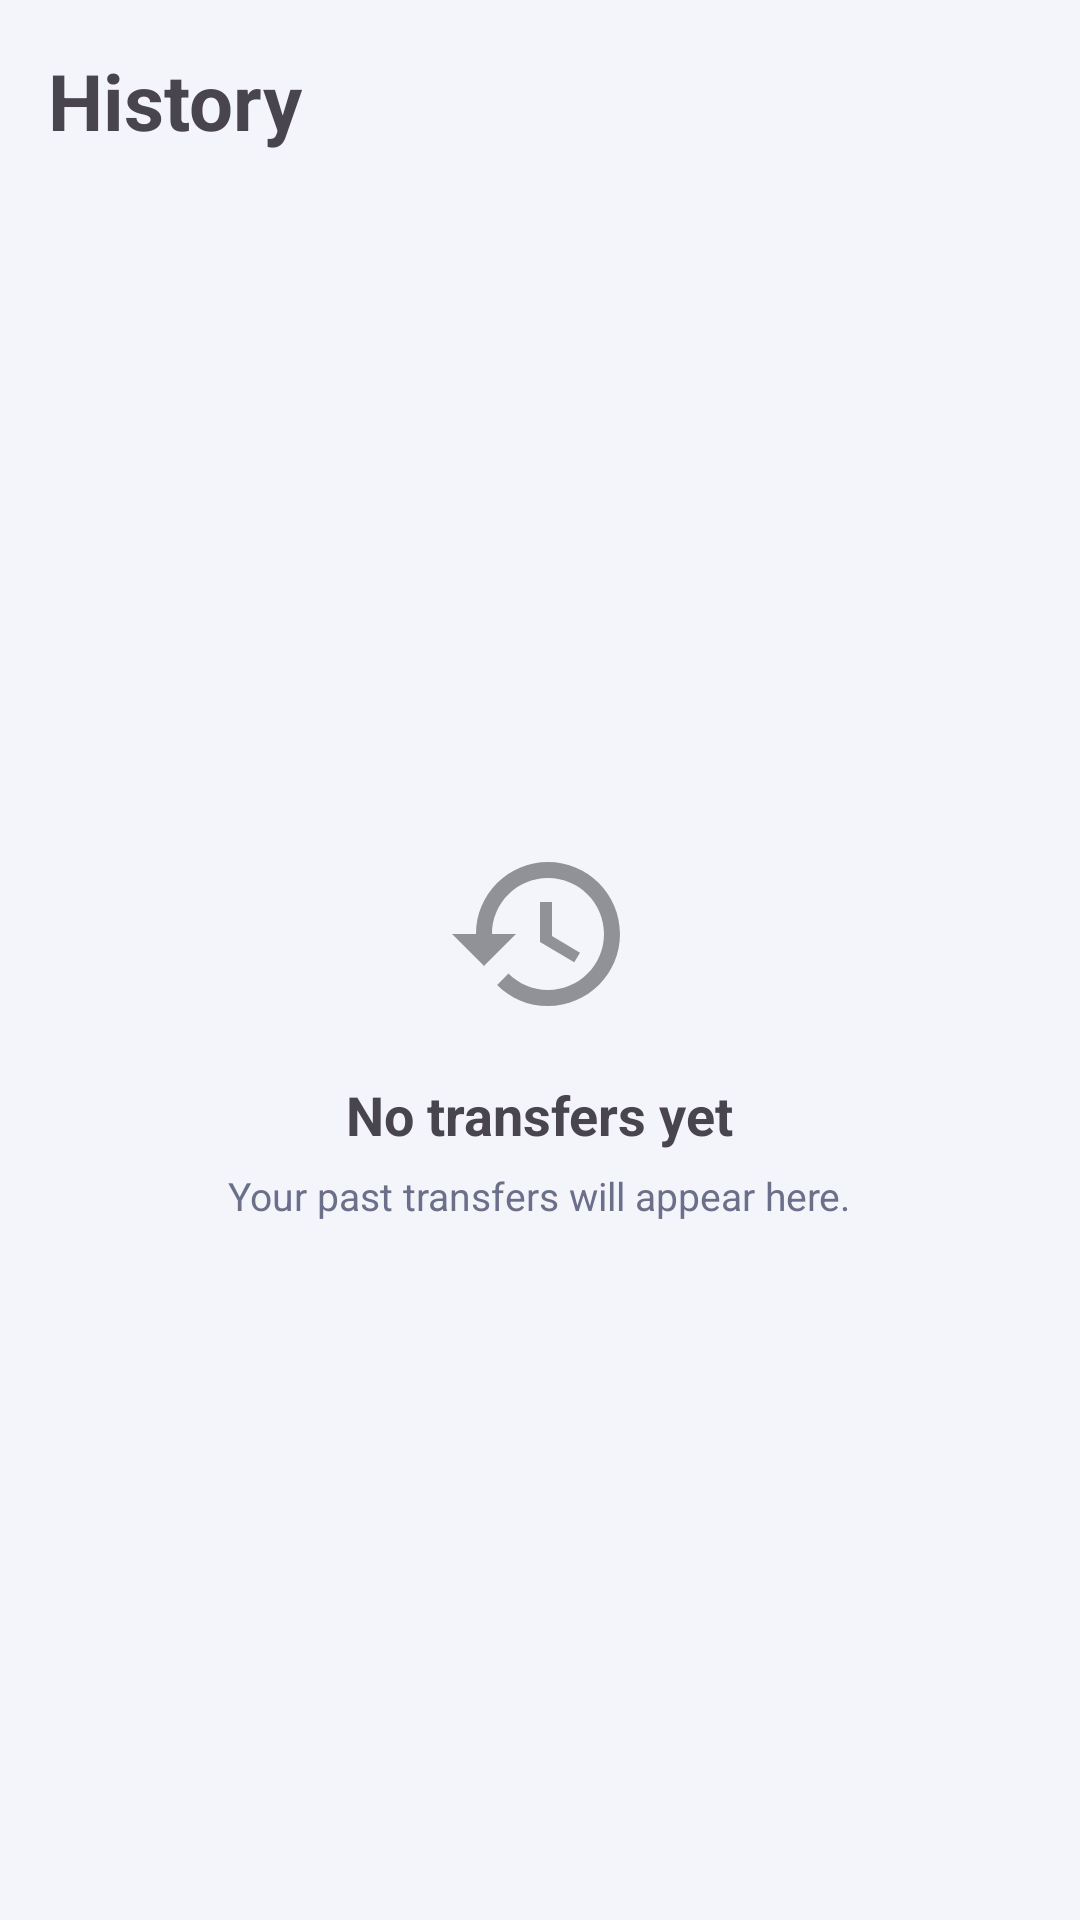

Where to tap for icons on this 1080w x 1920h app screen, as (x,y):
history: (536,934)
